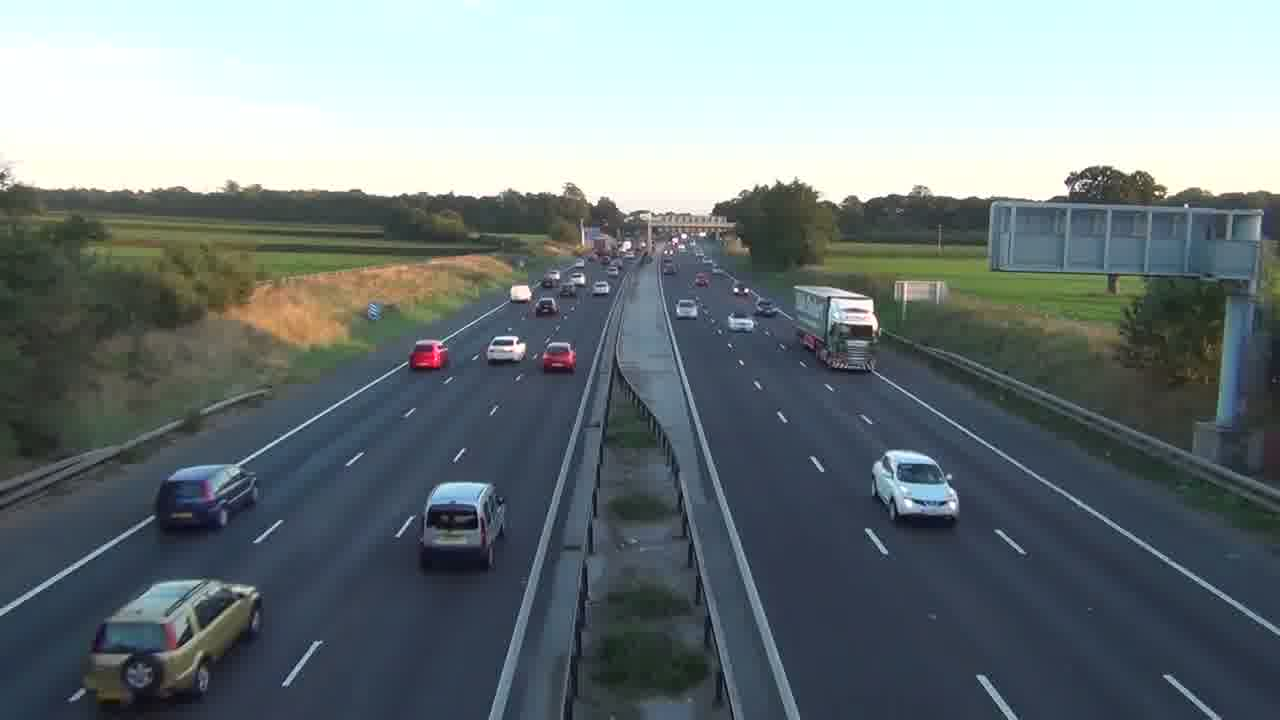car: (418, 480, 509, 570), (155, 463, 260, 531), (871, 448, 960, 526), (409, 338, 449, 370), (486, 334, 527, 364)
truck: (72, 577, 263, 707), (791, 284, 881, 372)
